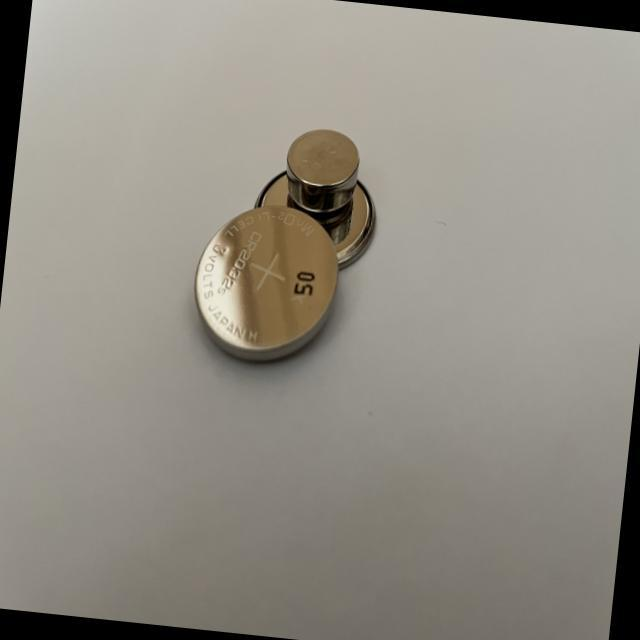COIN: (184, 198, 346, 374), (245, 160, 382, 275), (277, 122, 368, 218)
